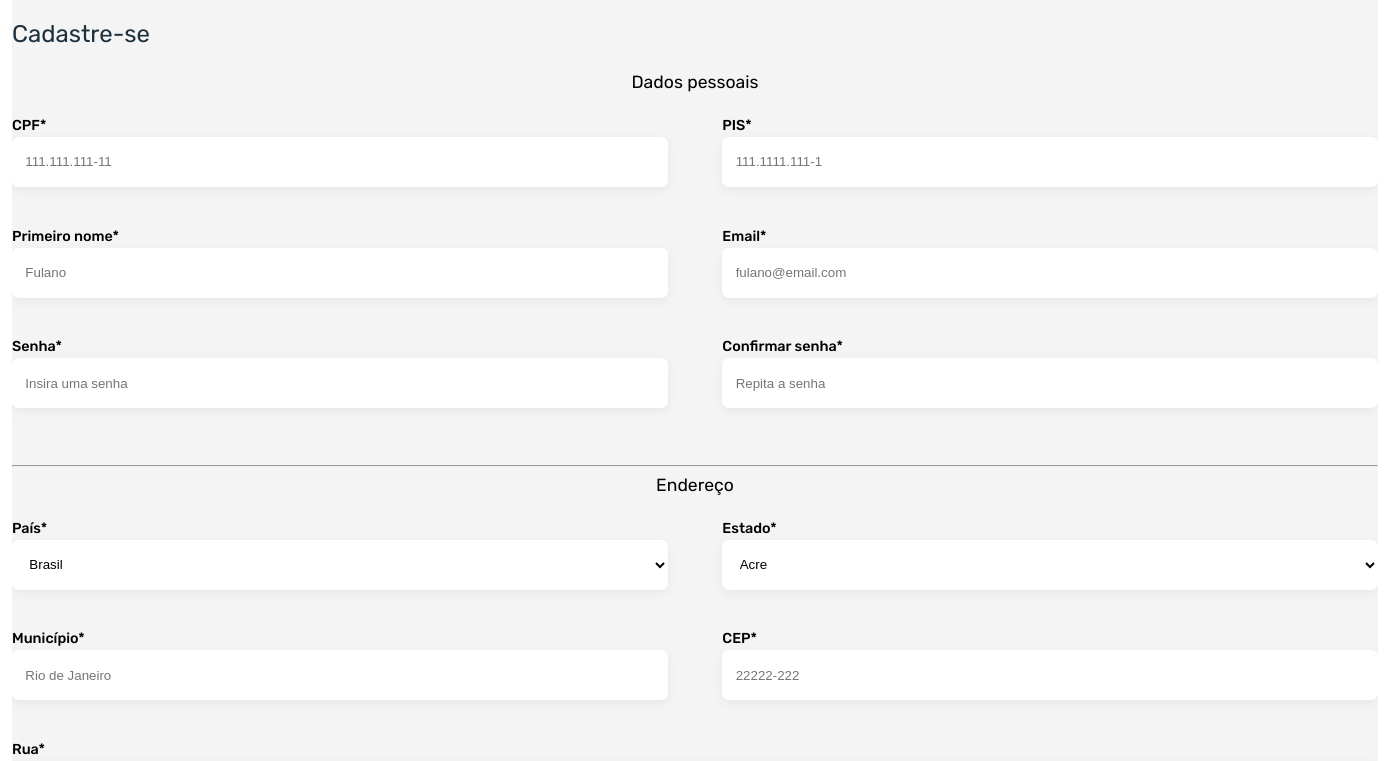
Register form › submit flow › state input changes from 'select' to text input if country is not Brazil
Select "Brasil" in the dropdown labelled "País*": (340, 565) [12, 540, 668, 590]
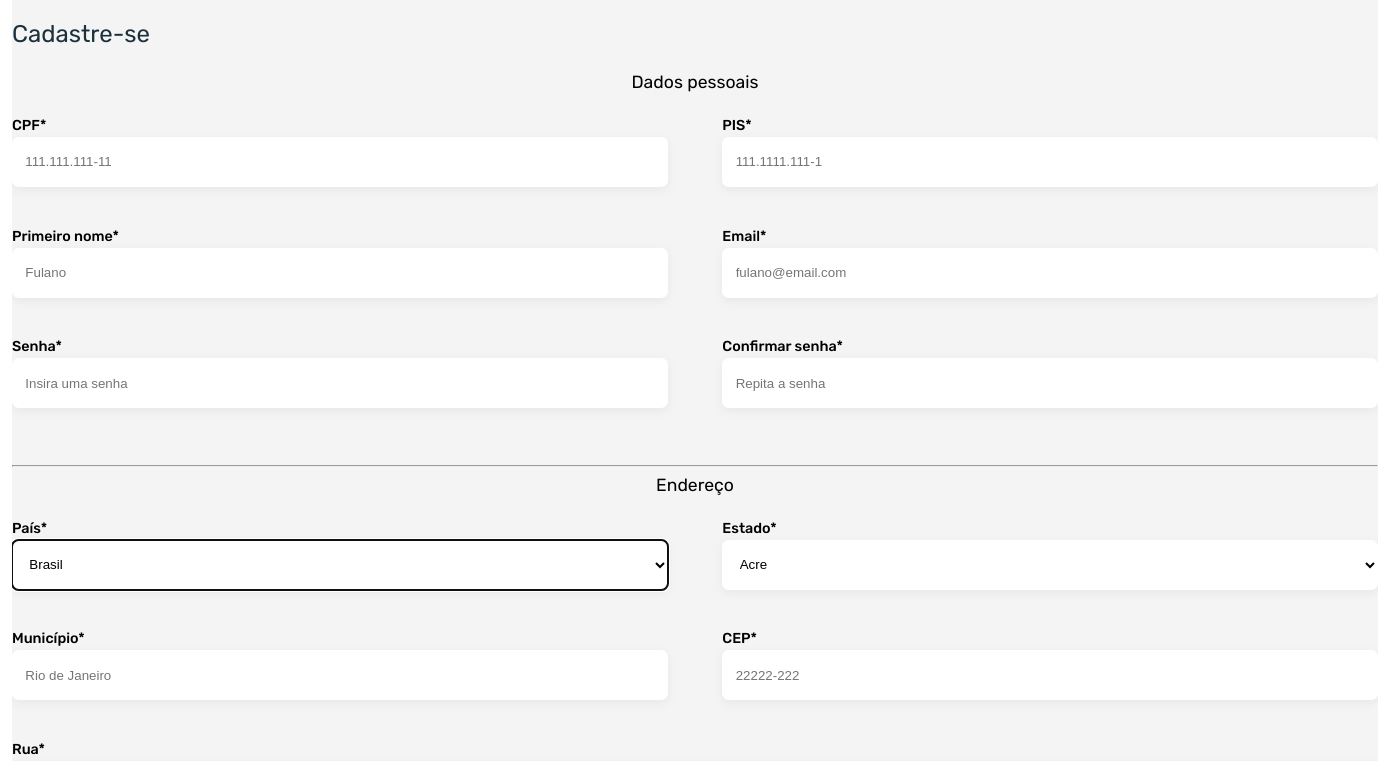
Check: the dropdown with test id "stateSelectInput" is shown, box [722, 540, 1378, 590]
Select "Argentina" in the dropdown labelled "País*": (340, 565) [12, 540, 668, 590]
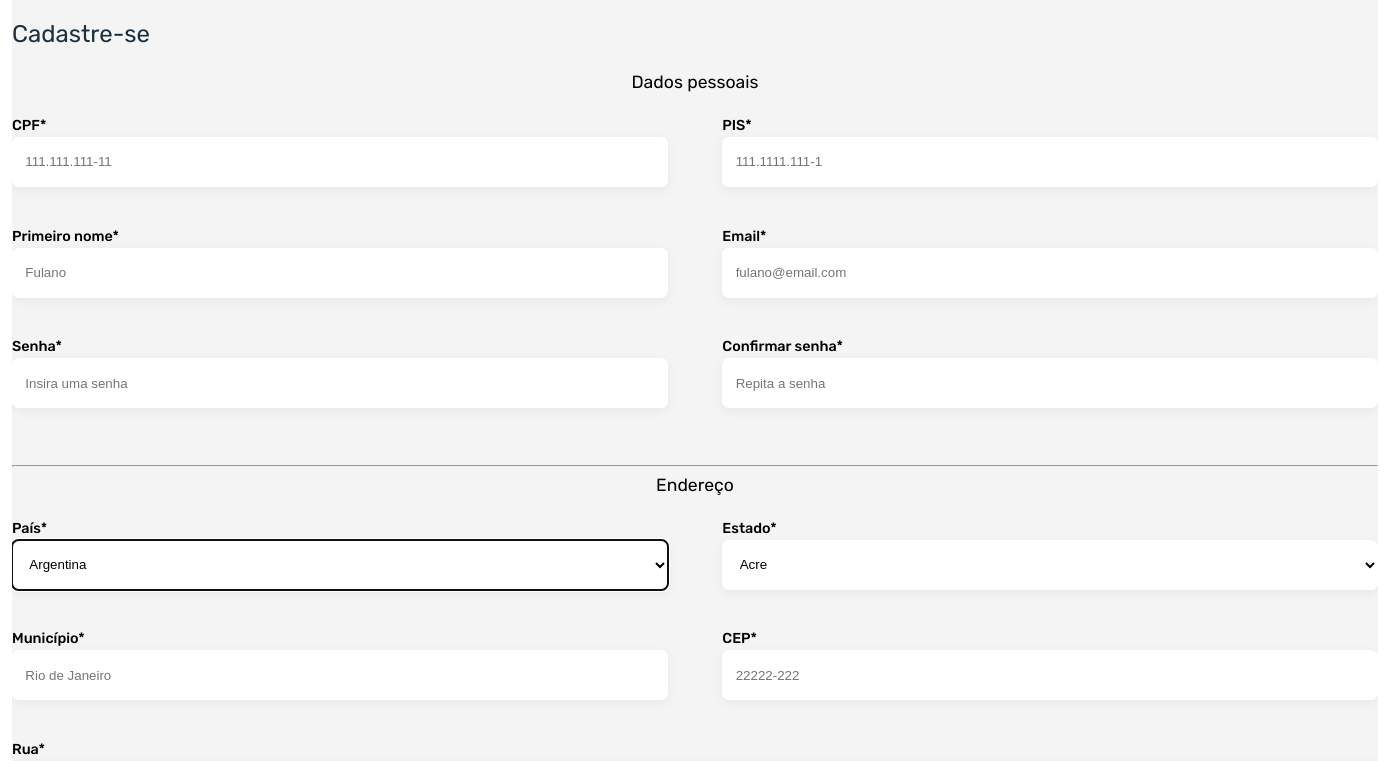
Leave the dropdown labelled "País*", box [12, 540, 668, 590]
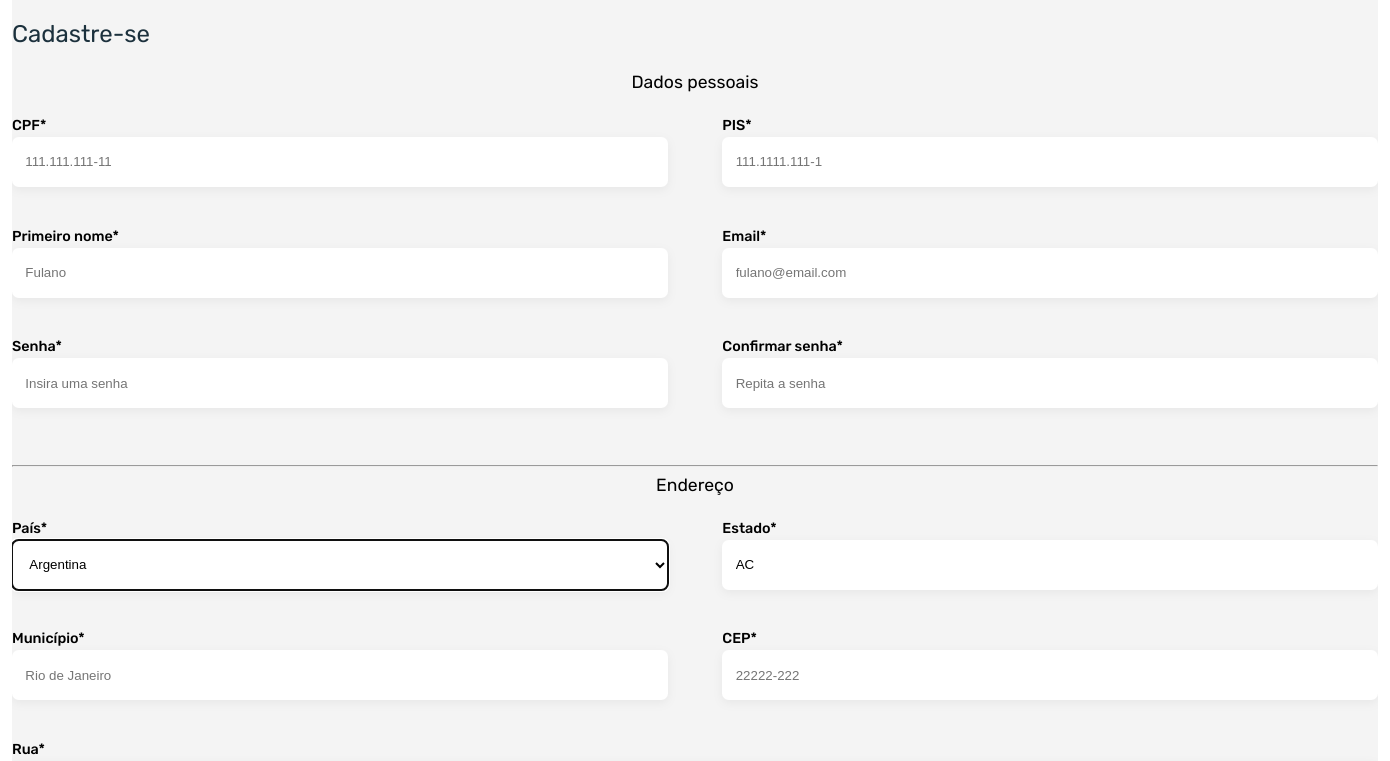
Check: the field with test id "stateTextInput" is shown, box [722, 540, 1378, 590]
